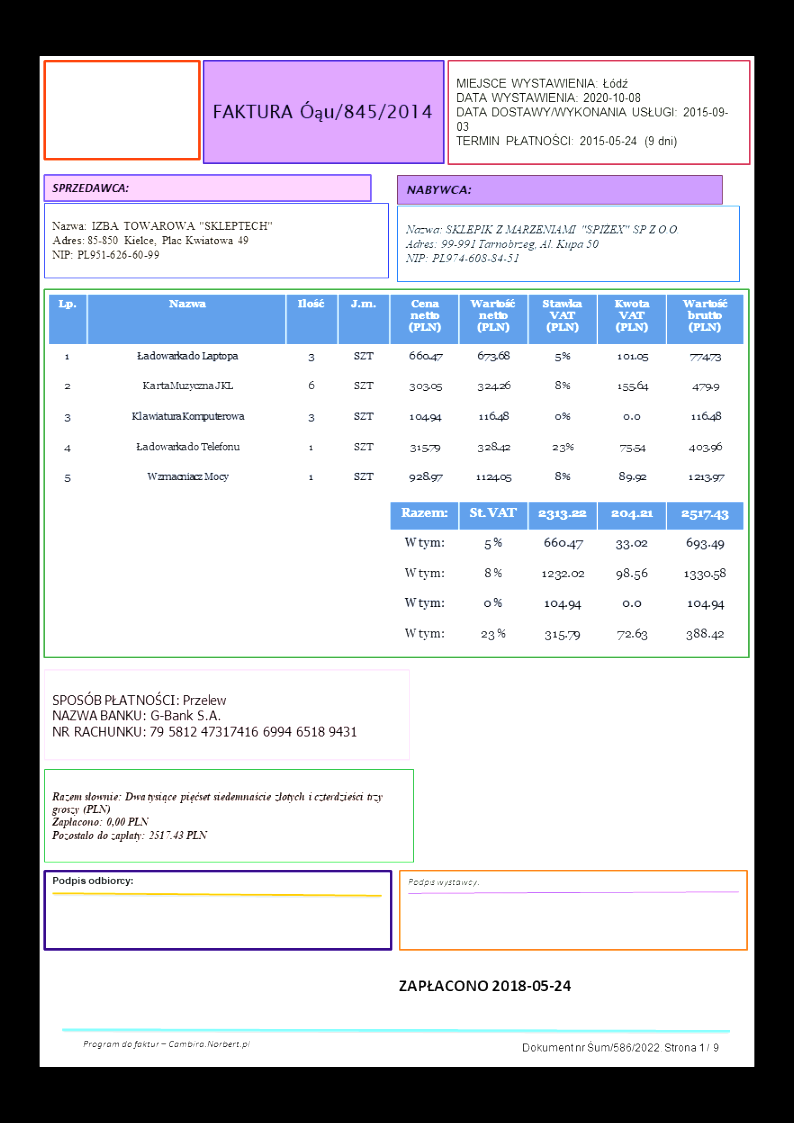Table: (47, 291, 743, 496), (389, 499, 745, 655)
TextBox: (453, 73, 731, 151), (49, 787, 386, 843), (50, 688, 361, 743), (403, 220, 681, 264), (49, 215, 275, 264), (210, 98, 434, 125), (397, 975, 574, 996), (518, 1038, 719, 1054), (80, 1036, 251, 1051), (50, 872, 137, 889), (51, 179, 131, 197), (405, 872, 480, 890), (402, 180, 474, 198)
